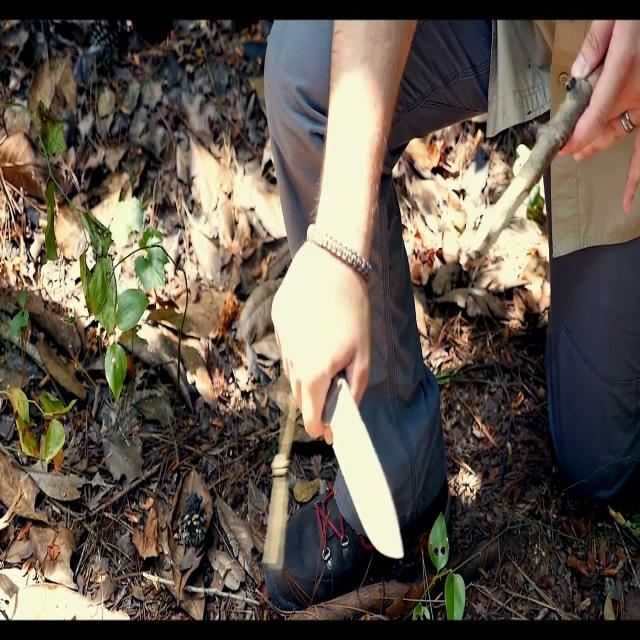knife: (322, 376, 410, 567)
